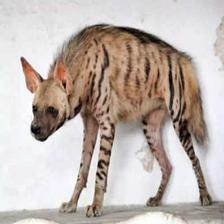hyena: (17, 20, 214, 223)
